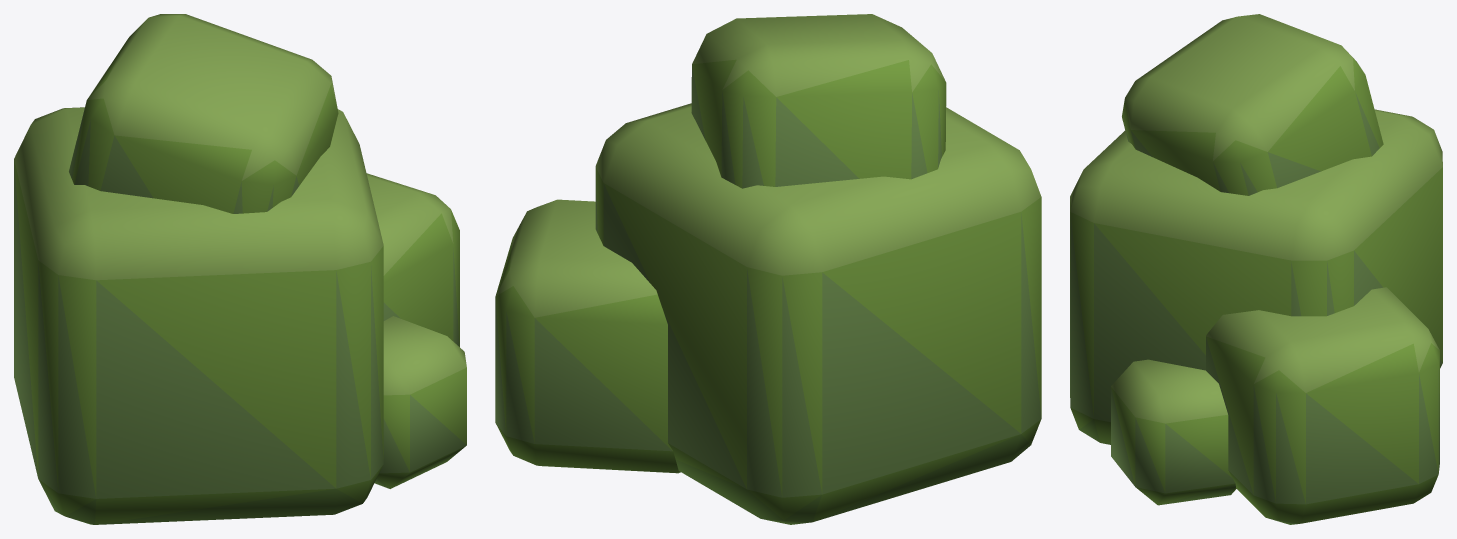
The model's file is itch_kaykit_forest_bush_2_f_color1.glb.
3 views of the same model, side by side, from view 1: azimuth 30°, elevation 25°; view 2: azimuth 150°, elevation 25°; view 3: azimuth 270°, elevation 25° (orthographic). The views are drawn at different scales.
Parts seen in each view (by area): view 1: Bush_2_F_Color1; view 2: Bush_2_F_Color1; view 3: Bush_2_F_Color1.
Part boxes in pixels (left/top/right/bottom): Bush_2_F_Color1: left=14, top=14, right=466, bottom=524; Bush_2_F_Color1: left=495, top=14, right=1041, bottom=524; Bush_2_F_Color1: left=1070, top=14, right=1442, bottom=524.
Bounding box in the file's own units: 0.96 × 0.8569 × 0.7625.
